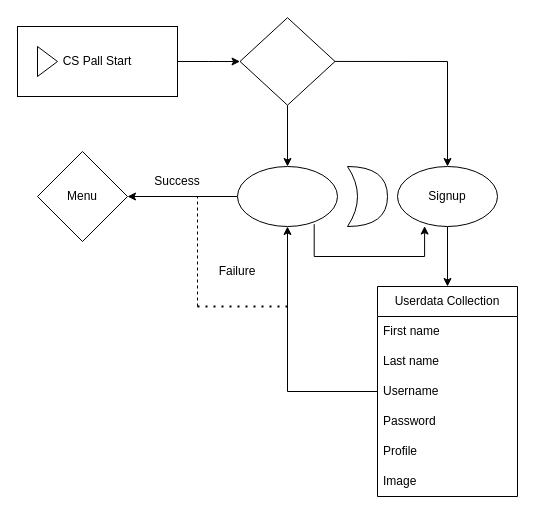
Image size: 535x514. Some labels were removed from this diagram. Here are the shapes that lost their labels. From the top down, the centre of each, then its label:
pixel 287 61: Log in Screen
pixel 287 196: Login
